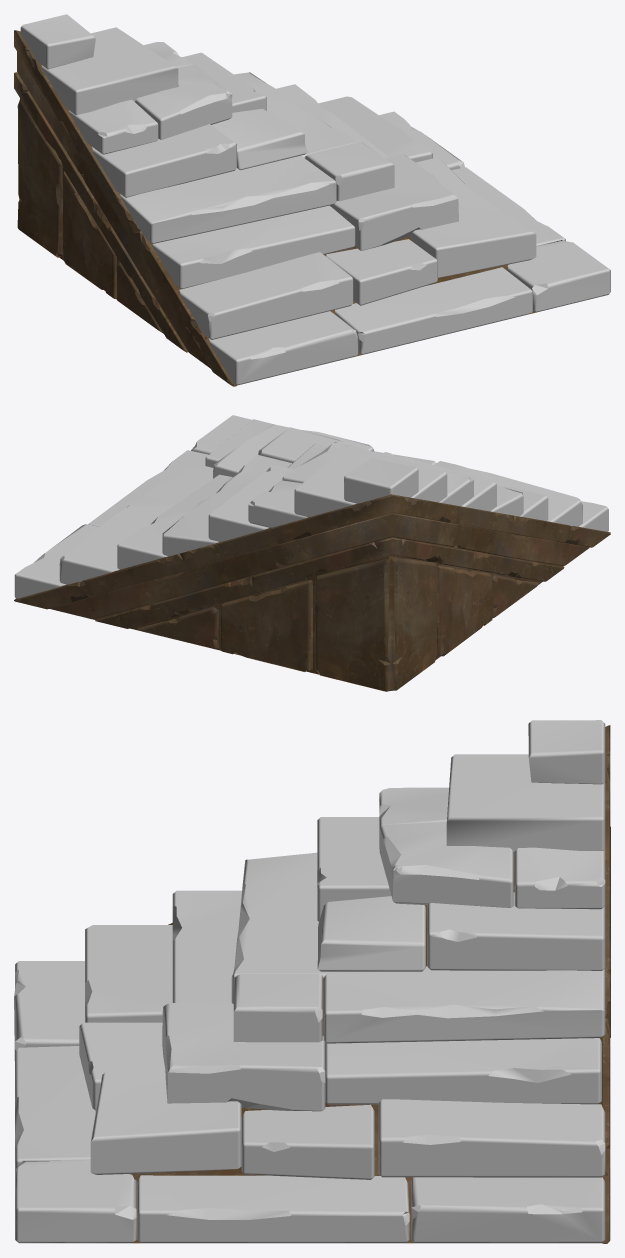
The picture shows the model from 3 angles, top to bottom: view 1: azimuth 30°, elevation 25°; view 2: azimuth 150°, elevation 25°; view 3: azimuth 270°, elevation 25°; orthographic projection. The views are drawn at different scales.
Parts seen in each view (by area): view 1: SM_Vault_4m_Stairs_Corner_01_LOD0; view 2: SM_Vault_4m_Stairs_Corner_01_LOD0; view 3: SM_Vault_4m_Stairs_Corner_01_LOD0.
Boxes of the visible parts, x1,y1,x2,y2 form: SM_Vault_4m_Stairs_Corner_01_LOD0: (14, 14, 610, 386); SM_Vault_4m_Stairs_Corner_01_LOD0: (14, 415, 610, 691); SM_Vault_4m_Stairs_Corner_01_LOD0: (14, 720, 610, 1243).
Size of the model in its own units: 4.05 by 2.07 by 4.05.
